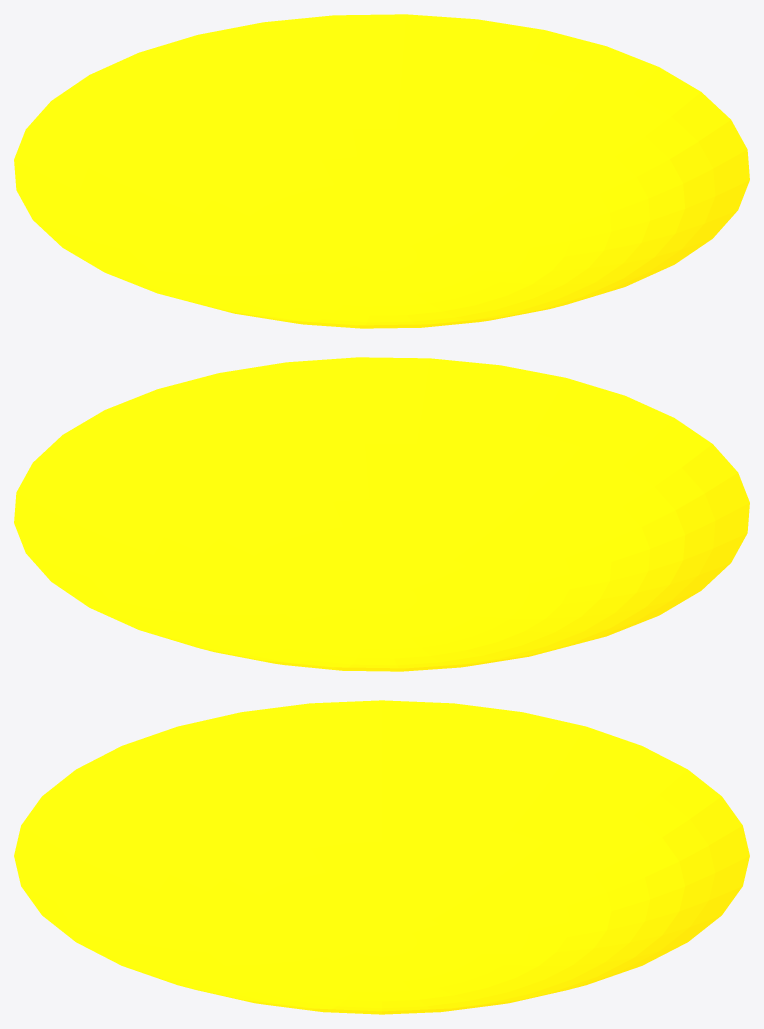
The model's file is wall_mush.glb.
3 views of the same model, one above another, from view 1: azimuth 30°, elevation 25°; view 2: azimuth 150°, elevation 25°; view 3: azimuth 270°, elevation 25° (orthographic).
Parts seen in each view (by area): view 1: Circle; view 2: Circle; view 3: Circle.
Part boxes in pixels (x1,y1,x2,y2): Circle: (14, 14, 749, 328); Circle: (14, 357, 749, 671); Circle: (14, 700, 749, 1014).
Size of the model in its own units: 3.79 by 0.4887 by 3.79.
